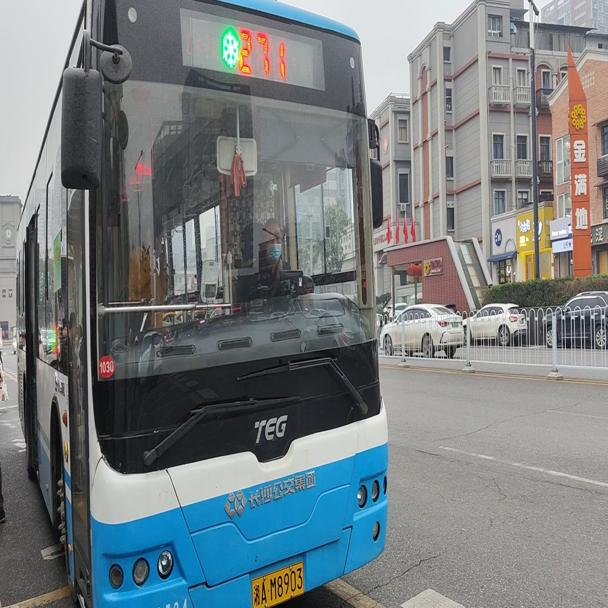bus: (14, 0, 389, 604)
screen: (238, 27, 287, 77)
